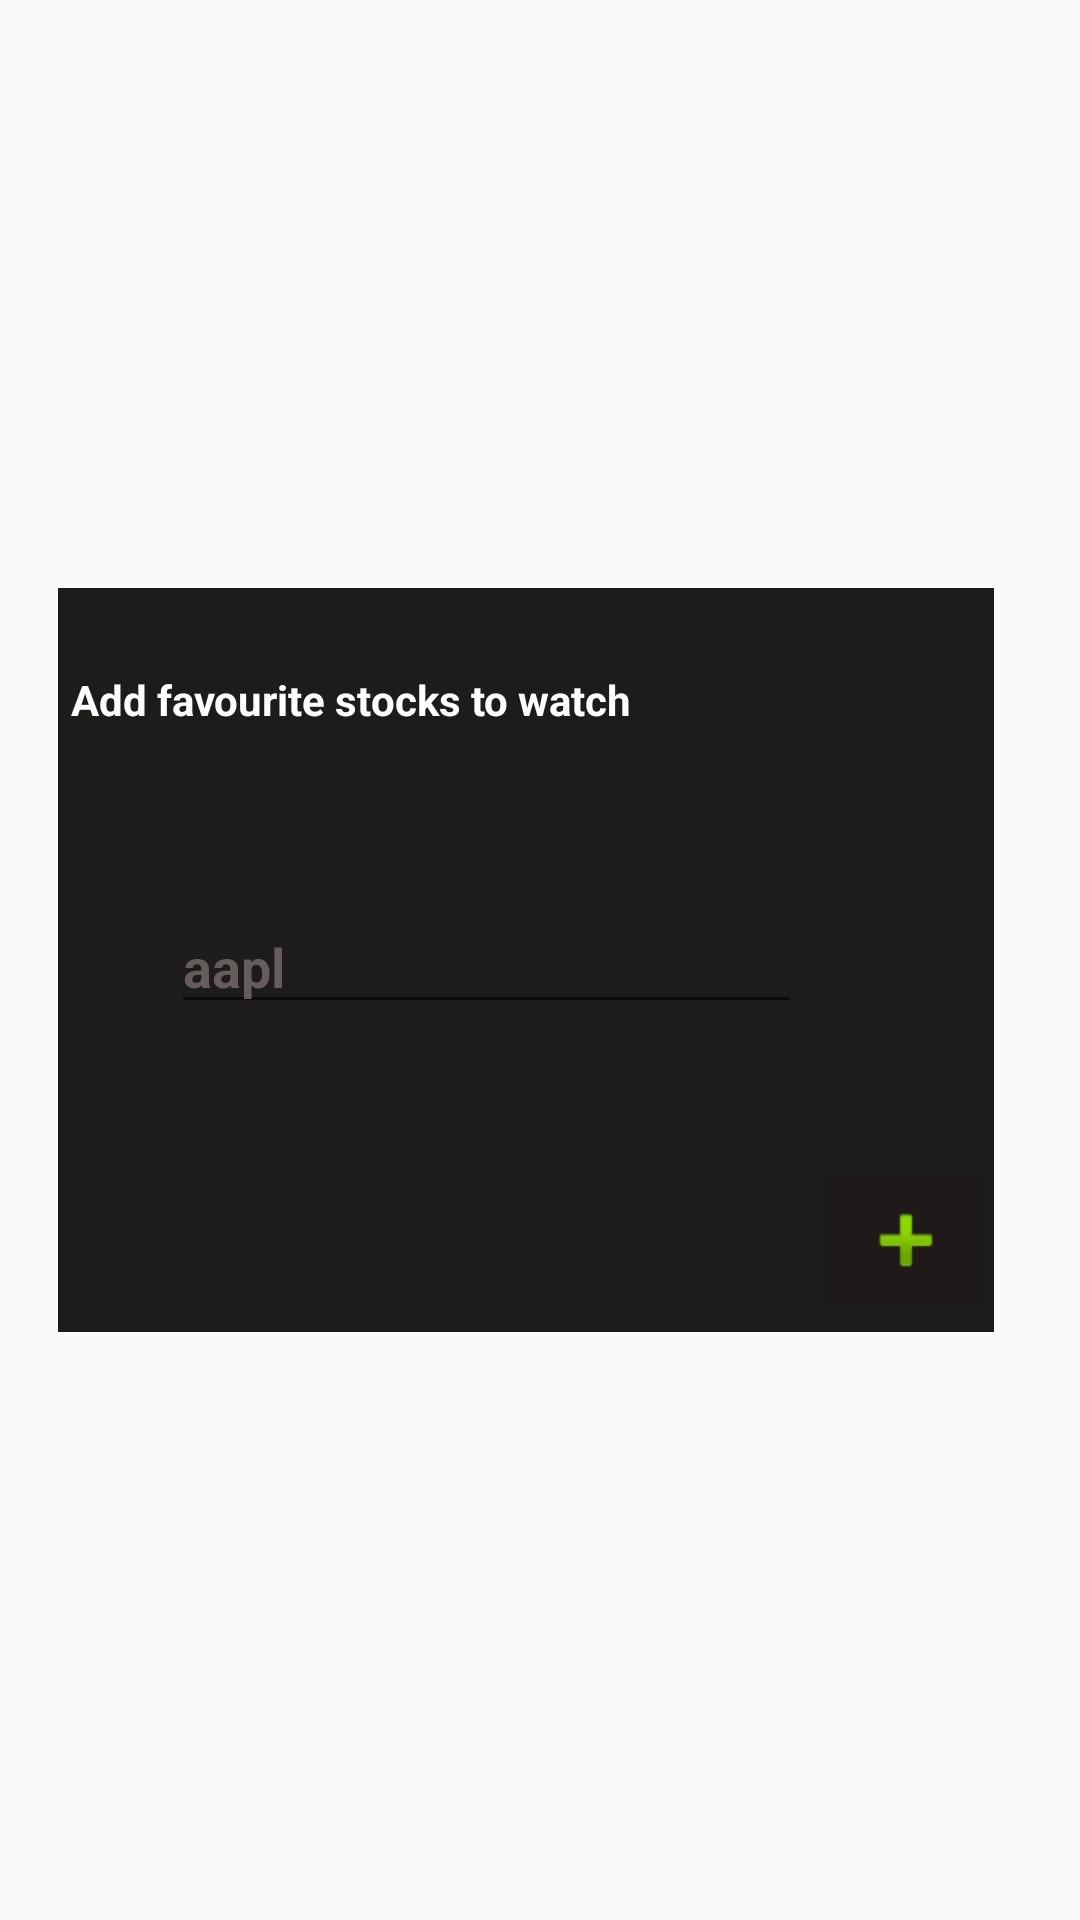

Locate icon controls on the screen. Image size 1080px x 1920px, boxes as detection(x1, y1, x2, y2).
add: detection(879, 1213, 933, 1267)
